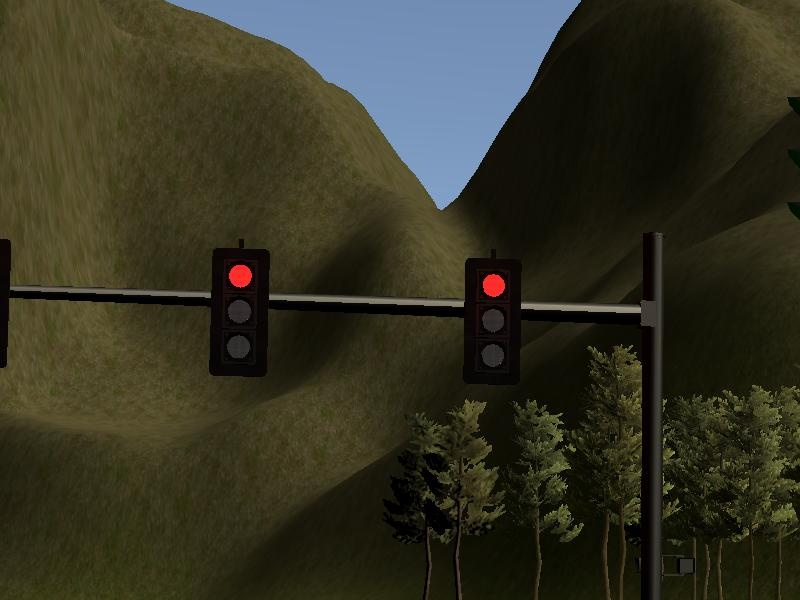red: (457, 250, 530, 392), (209, 245, 274, 383)
